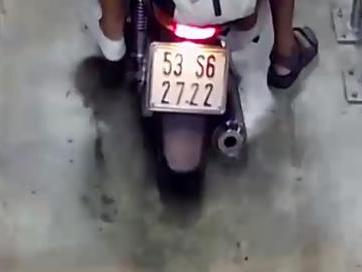num_plate: (147, 42, 229, 116)
